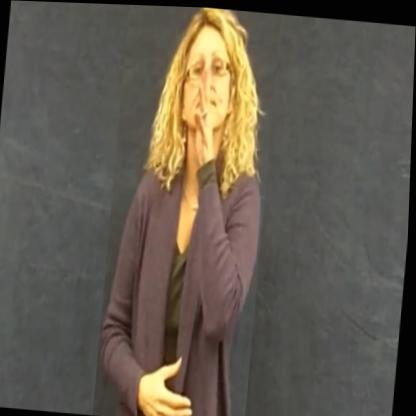Talk: (95, 3, 281, 416)
